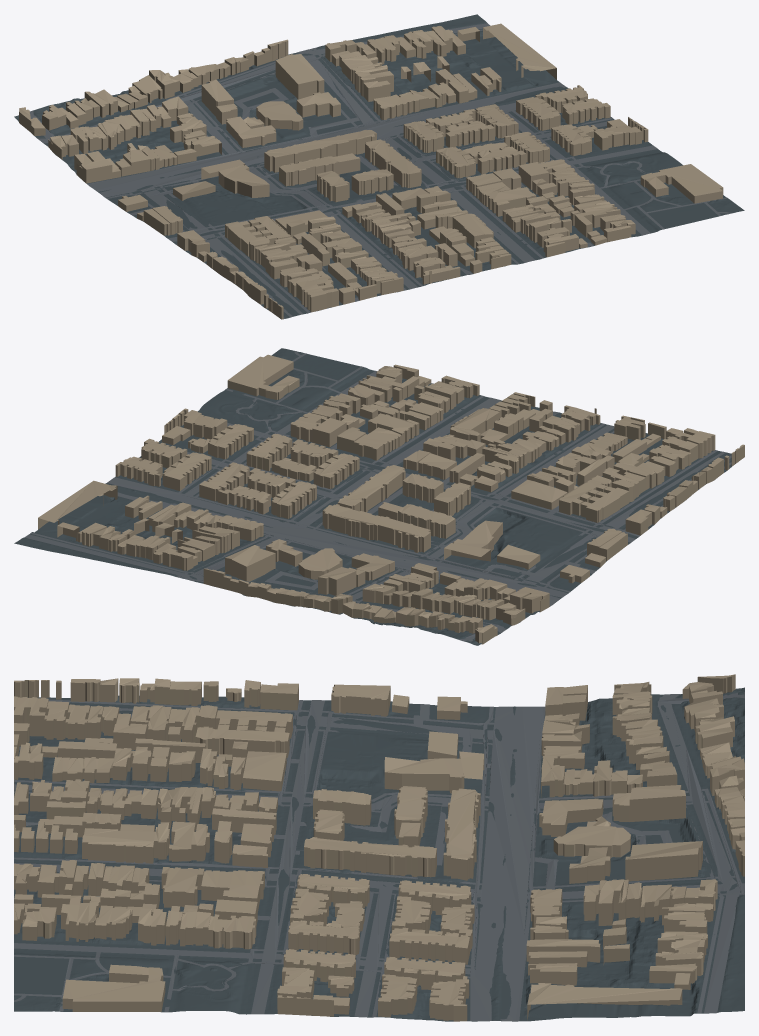
File: epsg26910-1436-10880.lod0.glb
3 renders of one model, top to bottom at view 1: azimuth 30°, elevation 25°; view 2: azimuth 150°, elevation 25°; view 3: azimuth 270°, elevation 25°, orthographic. The views are drawn at different scales.
Visible parts, largest first — view 1: epsg26910-1436-10880-lod0; view 2: epsg26910-1436-10880-lod0; view 3: epsg26910-1436-10880-lod0.
Part boxes in pixels (x1=…): epsg26910-1436-10880-lod0: x1=14, y1=14, x2=744, y2=319; epsg26910-1436-10880-lod0: x1=14, y1=348, x2=744, y2=645; epsg26910-1436-10880-lod0: x1=14, y1=674, x2=744, y2=1021.
Size of the model in its own units: 384 by 26.78 by 384.
